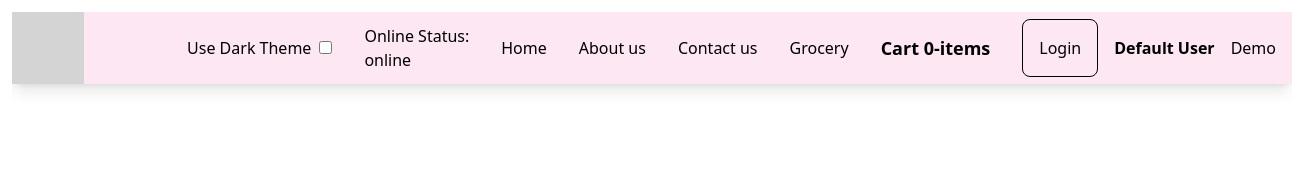
Test case: should load Header component with Login button
This screenshot has width=1292, height=172.
Click the button "Login": (1060,48) [1022,19,1098,77]
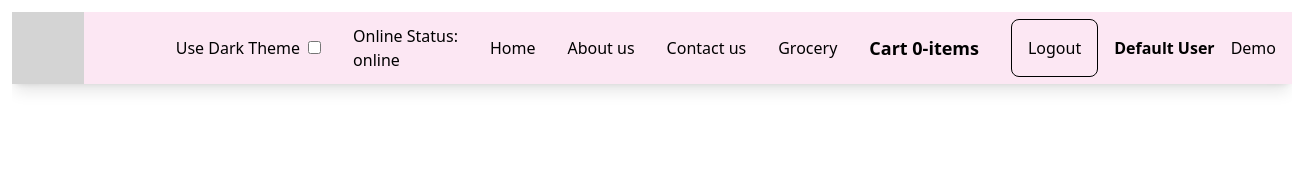
Now the button "Logout" is shown, box [1011,19,1098,77]
